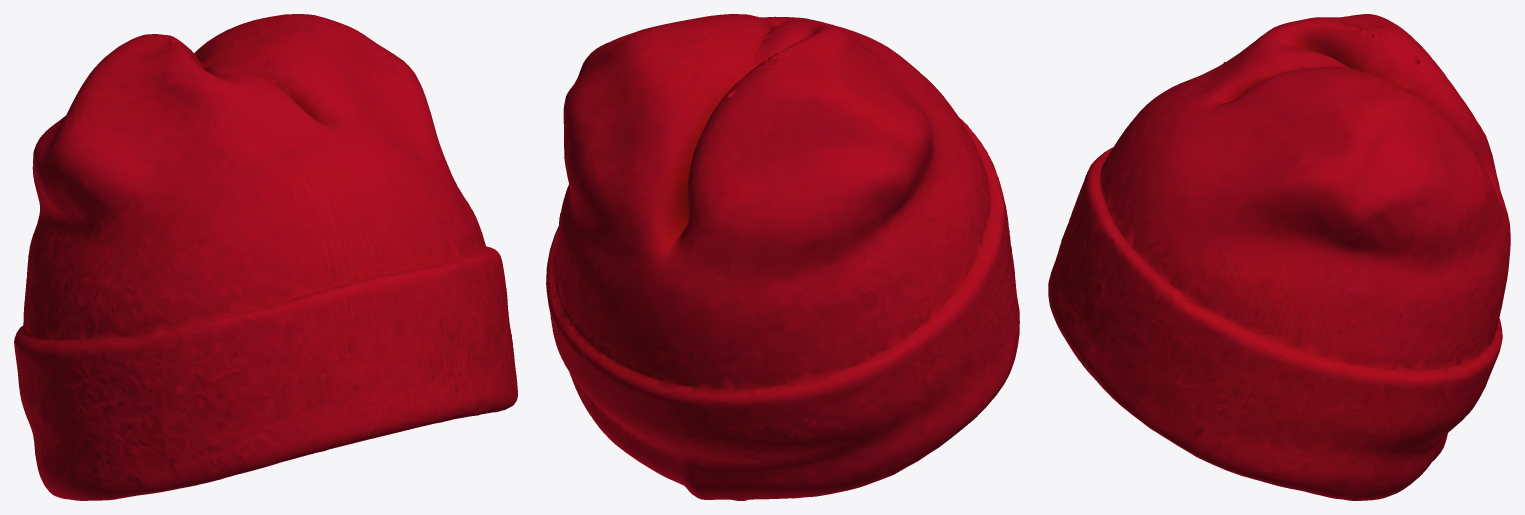
The picture shows the model from 3 angles, left to right: view 1: azimuth 30°, elevation 25°; view 2: azimuth 150°, elevation 25°; view 3: azimuth 270°, elevation 25°; orthographic projection. The views are drawn at different scales.
Visible parts, largest first — view 1: tripo_node_f13b41e1-9856-4ec2-9bec-db87d75f52dc; view 2: tripo_node_f13b41e1-9856-4ec2-9bec-db87d75f52dc; view 3: tripo_node_f13b41e1-9856-4ec2-9bec-db87d75f52dc.
Boxes of the visible parts, bbox=[...] form: tripo_node_f13b41e1-9856-4ec2-9bec-db87d75f52dc: bbox=[14, 14, 517, 500]; tripo_node_f13b41e1-9856-4ec2-9bec-db87d75f52dc: bbox=[546, 14, 1019, 500]; tripo_node_f13b41e1-9856-4ec2-9bec-db87d75f52dc: bbox=[1048, 14, 1510, 500].
Size of the model in its own units: 0.9682 by 0.9998 by 0.9987.
1 material, 1 textured.
